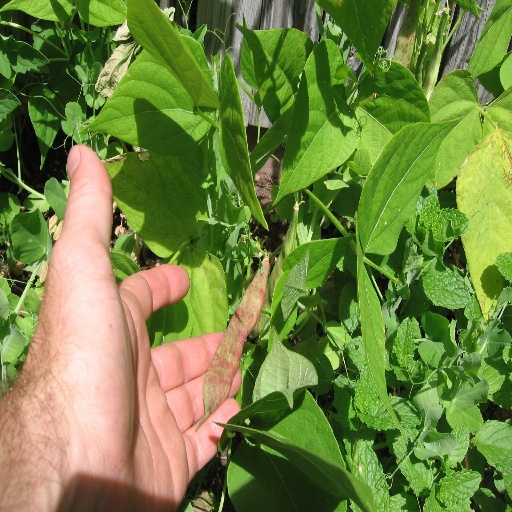hand: (0, 160, 210, 512)
